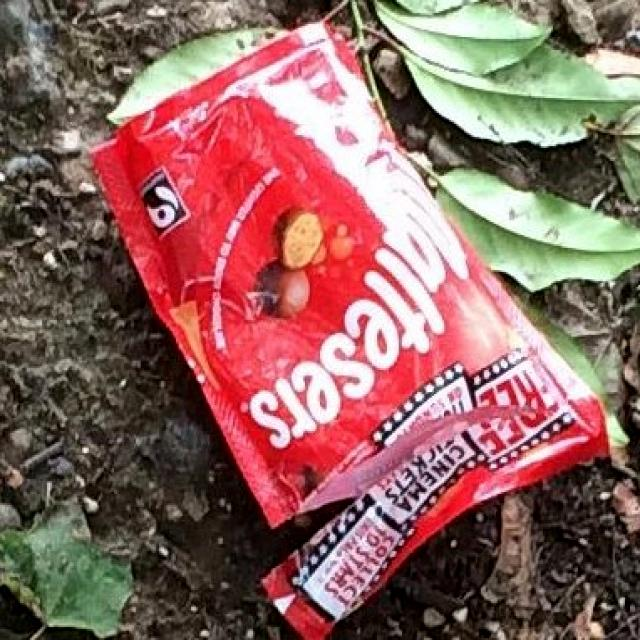Trash: (74, 6, 616, 640)
